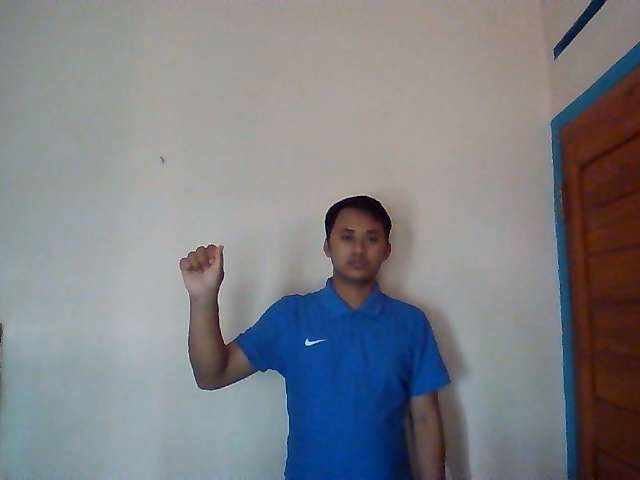A: (178, 243, 225, 295)
